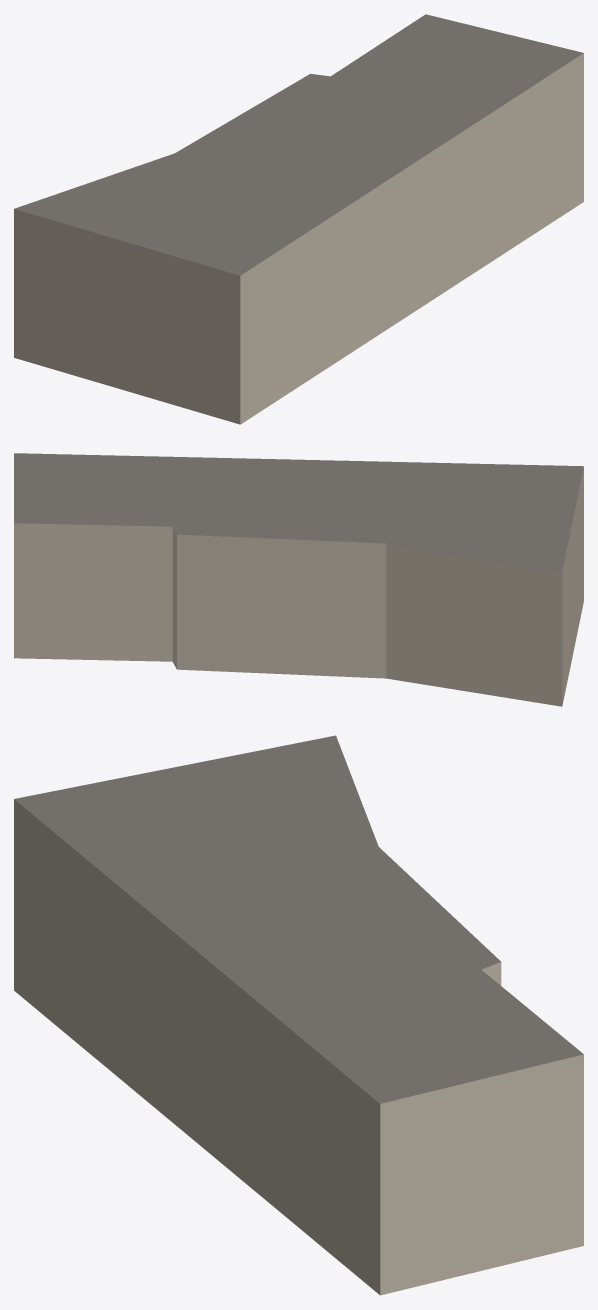
The picture shows the model from 3 angles, top to bottom: view 1: azimuth 30°, elevation 25°; view 2: azimuth 150°, elevation 25°; view 3: azimuth 270°, elevation 25°; orthographic projection. The views are drawn at different scales.
Parts seen in each view (by area): view 1: HP-w293414347; view 2: HP-w293414347; view 3: HP-w293414347.
Boxes of the visible parts, <box> form: HP-w293414347: <box>14,14,583,424</box>; HP-w293414347: <box>14,453,583,706</box>; HP-w293414347: <box>14,735,583,1295</box>.
Size of the model in its own units: 74.26 by 18 by 48.54.
